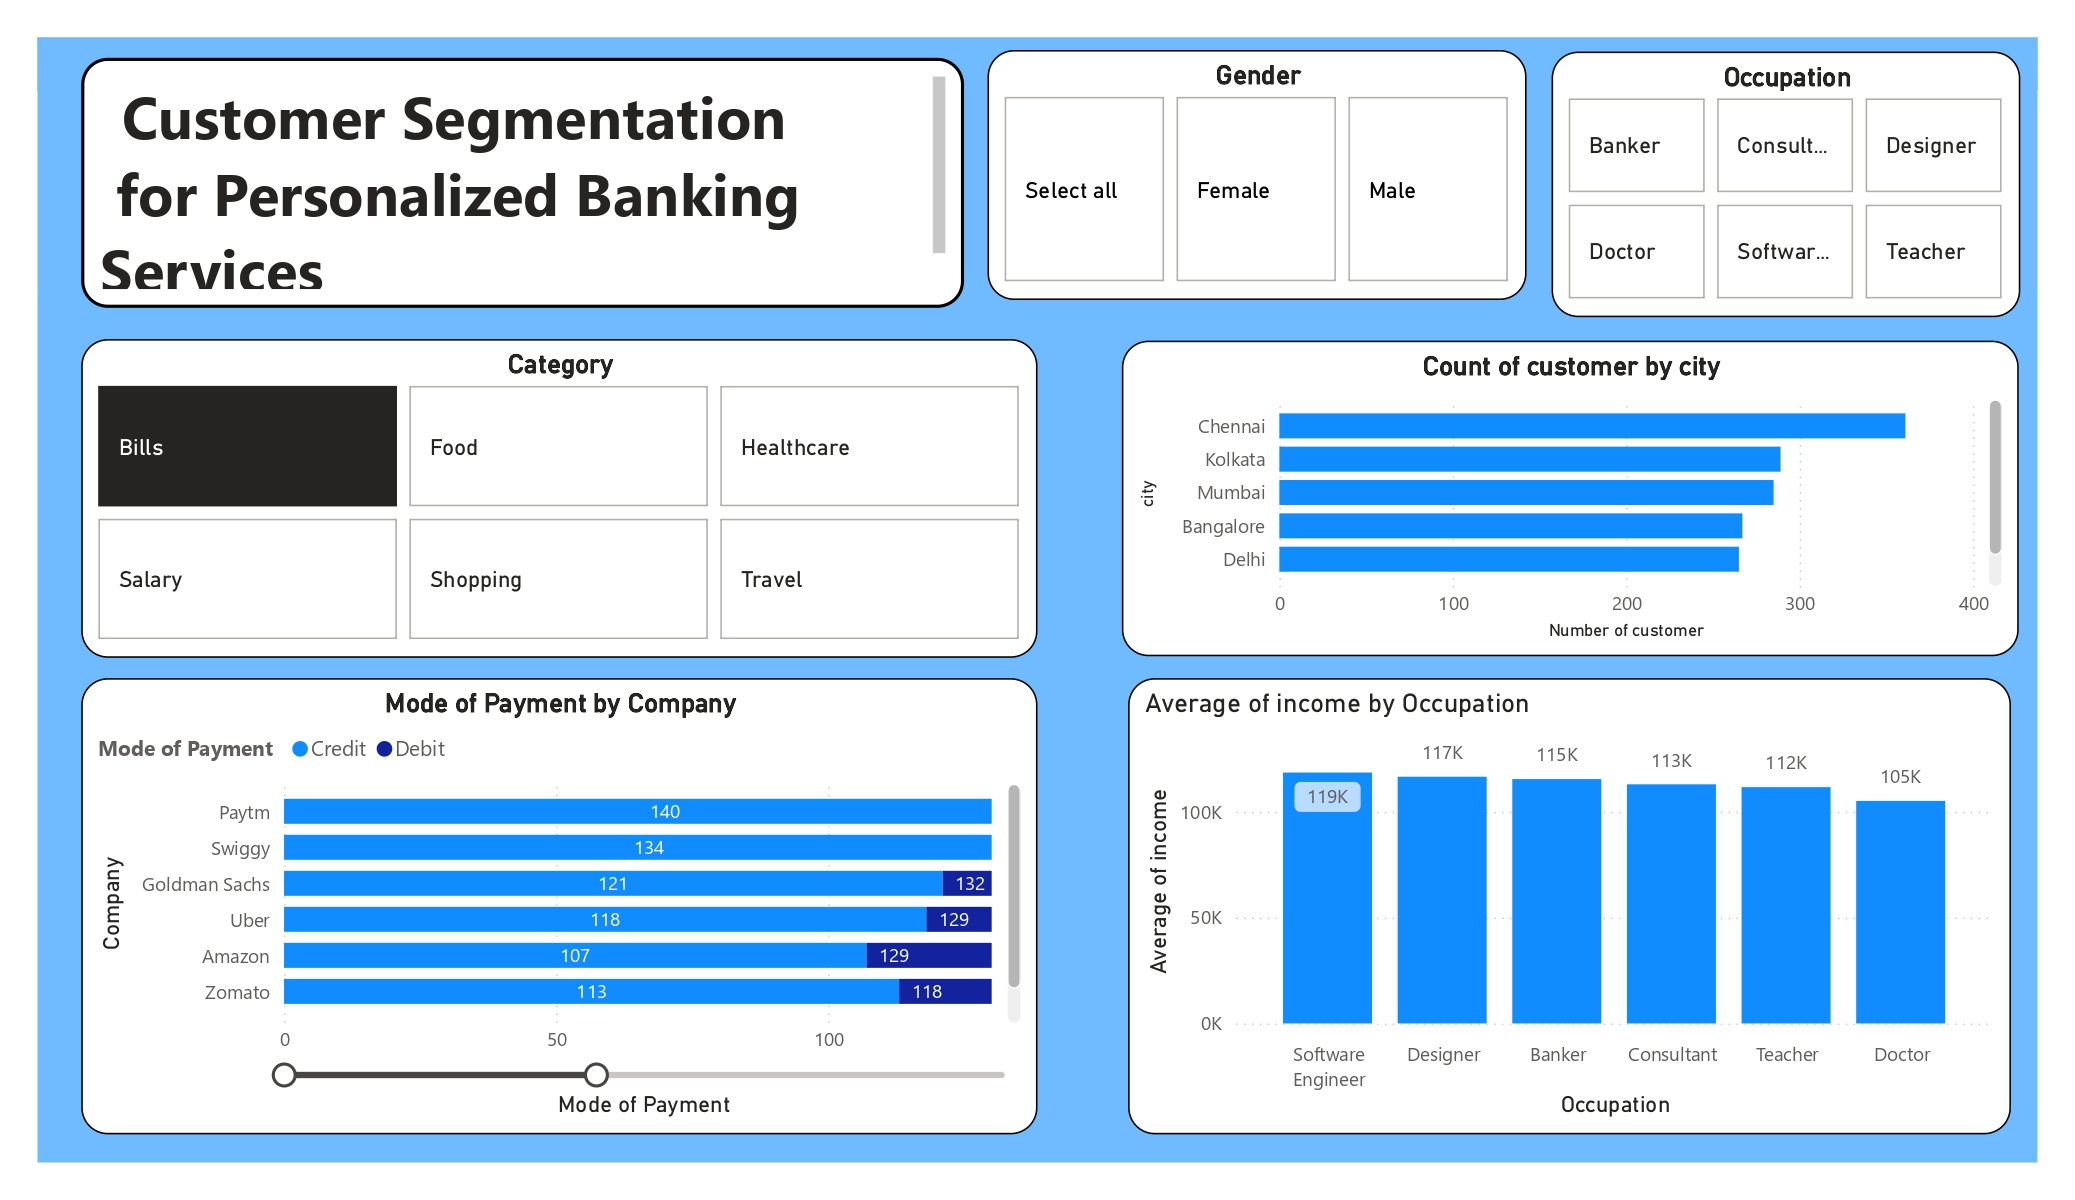

This screenshot's page, from the dashboard's own definition file:
{"tool":"powerbi","page":{"name":"Page 1","canvas":[1280,720],"ordinal":0},"visuals":[{"type":"advancedSlicerVisual","title":"Occupation","fields":{"Values":["customers.occupation"]},"box":[968.8,8.8,300,170],"z":0},{"type":"lineStackedColumnComboChart","fields":{"Category":["customers.occupation"],"Y":["Avg(customers.income)"]},"box":[698.3,410,565,291.7],"z":2000},{"type":"advancedSlicerVisual","title":"Gender","fields":{"Values":["customers.gen"]},"box":[608.3,8.3,345,160],"z":3000},{"type":"barChart","title":"Mode of Payment by Company ","fields":{"Category":["transactions.merchant_name"],"Series":["transactions.txn_type"],"Y":["CountNonNull(transactions.txn_type)"]},"box":[28.3,410,611.7,291.7],"z":4000},{"type":"advancedSlicerVisual","fields":{"Values":["transactions.category"]},"box":[28.3,193.3,611.7,203.3],"z":5000},{"type":"barChart","title":"Count of customer by city","fields":{"Category":["customers.city"],"Y":["CountNonNull(transactions.customer_id)"]},"box":[693.8,193.8,573.8,202.5],"z":5001},{"type":"textbox","box":[28.3,13.3,565,160],"z":5003}]}

Visuals, with their boxes in screenshot pixels (x1, y1, x2, y2):
"Occupation" advancedSlicerVisual: left=1551, top=51, right=2020, bottom=317
lineStackedColumnComboChart - customers.occupation x Avg(customers.income): left=1129, top=678, right=2011, bottom=1134
"Gender" advancedSlicerVisual: left=988, top=50, right=1527, bottom=300
"Mode of Payment by Company " barChart: left=82, top=678, right=1038, bottom=1134
advancedSlicerVisual - transactions.category: left=82, top=340, right=1038, bottom=657
"Count of customer by city" barChart: left=1122, top=340, right=2018, bottom=657
textbox: left=82, top=58, right=965, bottom=308
